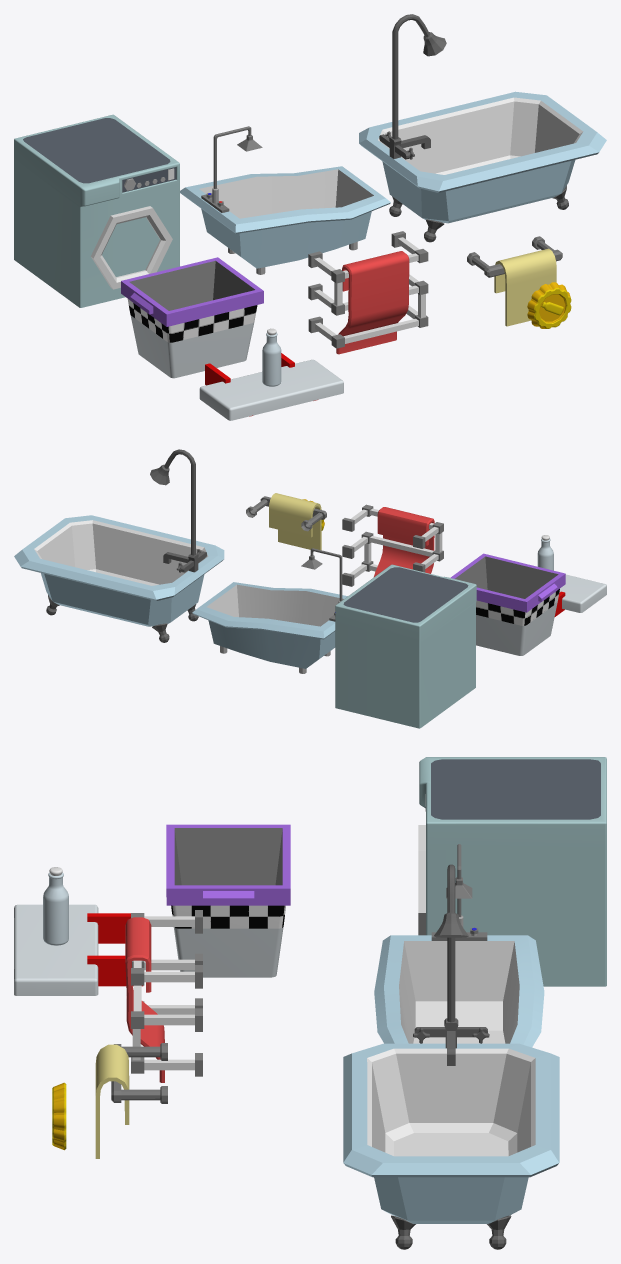
Rendered from Level 2.fbx.
The picture shows the model from 3 angles, top to bottom: view 1: azimuth 30°, elevation 25°; view 2: azimuth 150°, elevation 25°; view 3: azimuth 270°, elevation 25°; orthographic projection. The views are drawn at different scales.
Visible parts, largest first — view 1: Tub (×2), Box, Basket, Towel (×2), Stand, Towel_Stand, Tap (×2), Glass, Coin5, Bottle, Stand1; view 2: Tub (×2), Box, Basket, Towel (×2), Towel_Stand, Tap (×2), Stand, Stand1, Bottle; view 3: Tub (×2), Box, Basket, Stand, Towel_Stand, Towel (×2), Tap (×2), Bottle, Stand1, Coin5, Glass.
Part boxes in pixels (x1,y1,x2,y2): Tub (×2): [180, 91, 606, 274]; Box: [14, 114, 179, 307]; Basket: [121, 257, 263, 378]; Towel (×2): [336, 248, 556, 354]; Stand: [199, 353, 343, 420]; Towel_Stand: [308, 231, 428, 348]; Tap (×2): [201, 14, 446, 212]; Glass: [91, 206, 172, 289]; Coin5: [527, 282, 571, 328]; Bottle: [262, 328, 281, 386]; Stand1: [467, 236, 562, 277]; Tub (×2): [14, 515, 347, 673]; Box: [335, 564, 476, 728]; Basket: [450, 553, 565, 655]; Towel (×2): [269, 493, 434, 576]; Towel_Stand: [342, 504, 443, 586]; Tap (×2): [150, 449, 342, 621]; Stand: [554, 574, 606, 616]; Stand1: [246, 496, 326, 531]; Bottle: [537, 535, 553, 570]; Tub (×2): [343, 935, 559, 1249]; Box: [419, 757, 606, 986]; Basket: [166, 824, 290, 977]; Stand: [14, 904, 142, 995]; Towel_Stand: [131, 910, 202, 1076]; Towel (×2): [95, 917, 164, 1158]; Tap (×2): [413, 844, 489, 1065]; Bottle: [43, 867, 68, 945]; Stand1: [111, 1043, 167, 1103]; Coin5: [52, 1082, 66, 1150]; Glass: [418, 825, 425, 935].
Size of the model in its own units: 14.6 by 5.83 by 10.64.
Materials: 32 (1 with a texture image).
